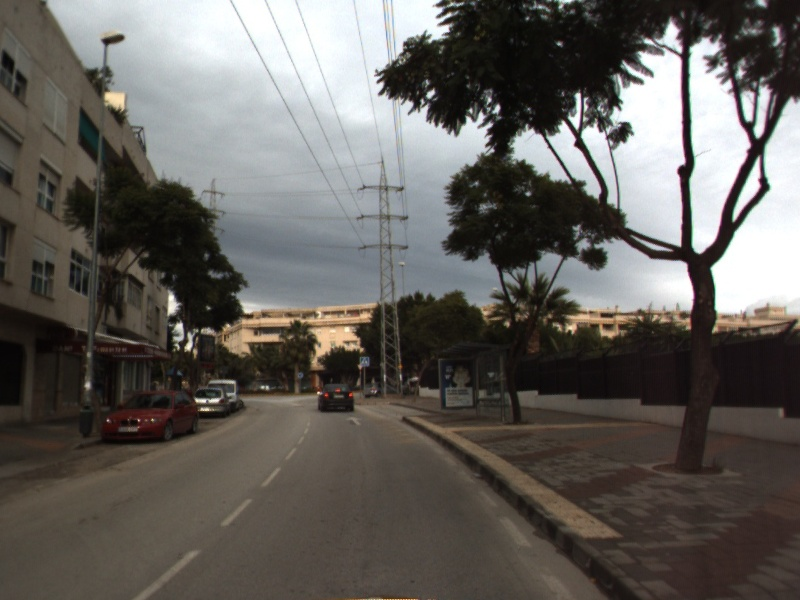STRAIGHT: (343, 414, 365, 427)
